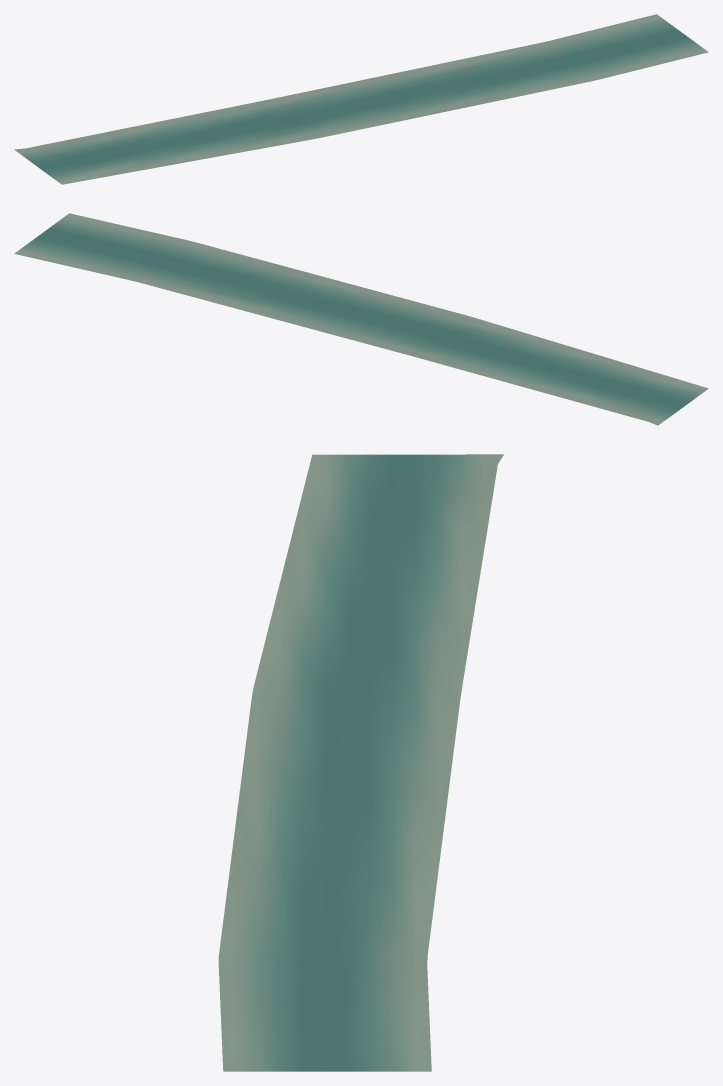
File: SM_BM_BC_Water_2.glb
The picture shows the model from 3 angles, top to bottom: view 1: azimuth 30°, elevation 25°; view 2: azimuth 150°, elevation 25°; view 3: azimuth 270°, elevation 25°; orthographic projection. The views are drawn at different scales.
Parts seen in each view (by area): view 1: SM_BM_BC_Water_2; view 2: SM_BM_BC_Water_2; view 3: SM_BM_BC_Water_2.
Boxes of the visible parts, x1=… form: SM_BM_BC_Water_2: x1=14, y1=14, x2=708, y2=184; SM_BM_BC_Water_2: x1=14, y1=213, x2=708, y2=425; SM_BM_BC_Water_2: x1=218, y1=454, x2=503, y2=1071.
Bounding box in the file's own units: 256 × 1.48 × 50.66.
